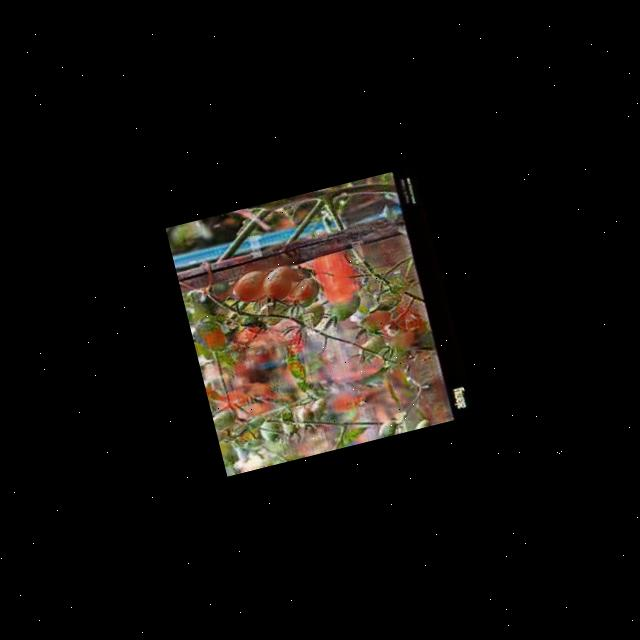tomato: (230, 267, 267, 304), (262, 262, 296, 302)
